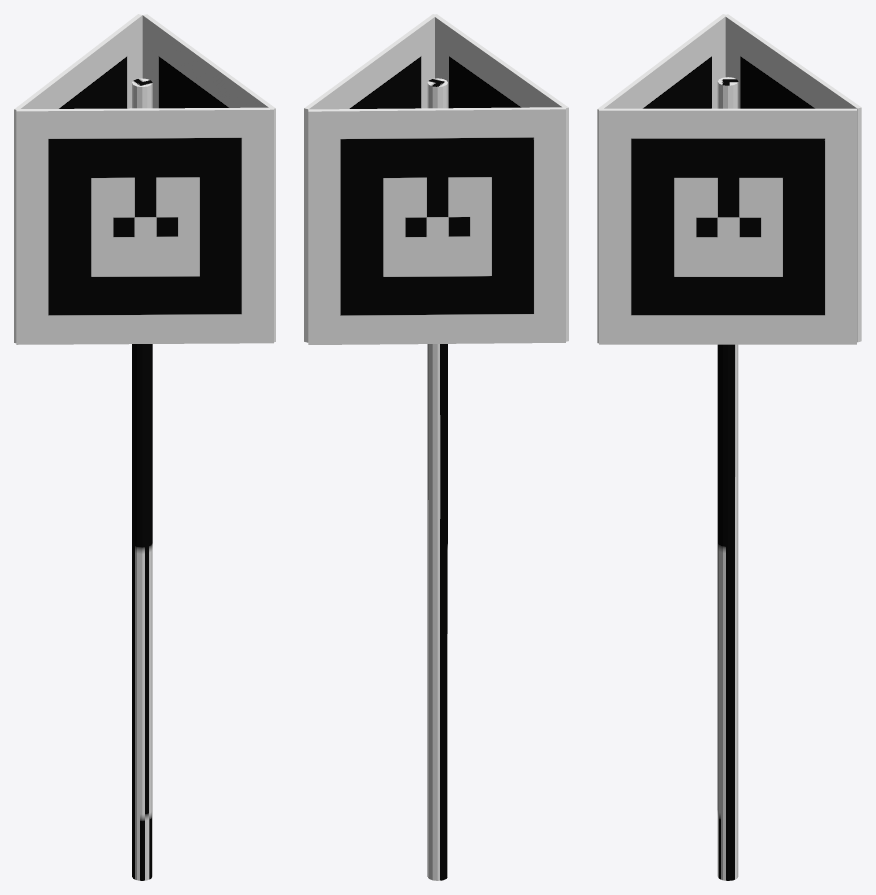
File: Marker0.dae
The picture shows the model from 3 angles, left to right: view 1: azimuth 30°, elevation 25°; view 2: azimuth 150°, elevation 25°; view 3: azimuth 270°, elevation 25°; orthographic projection.
Parts seen in each view (by area): view 1: Marker0; view 2: Marker0; view 3: Marker0.
Boxes of the visible parts, x1=… form: Marker0: x1=14, y1=14, x2=275, y2=880; Marker0: x1=304, y1=14, x2=568, y2=880; Marker0: x1=597, y1=14, x2=861, y2=880.
Bounding box in the file's own units: 0.4433 × 0.5127 × 1.71.
